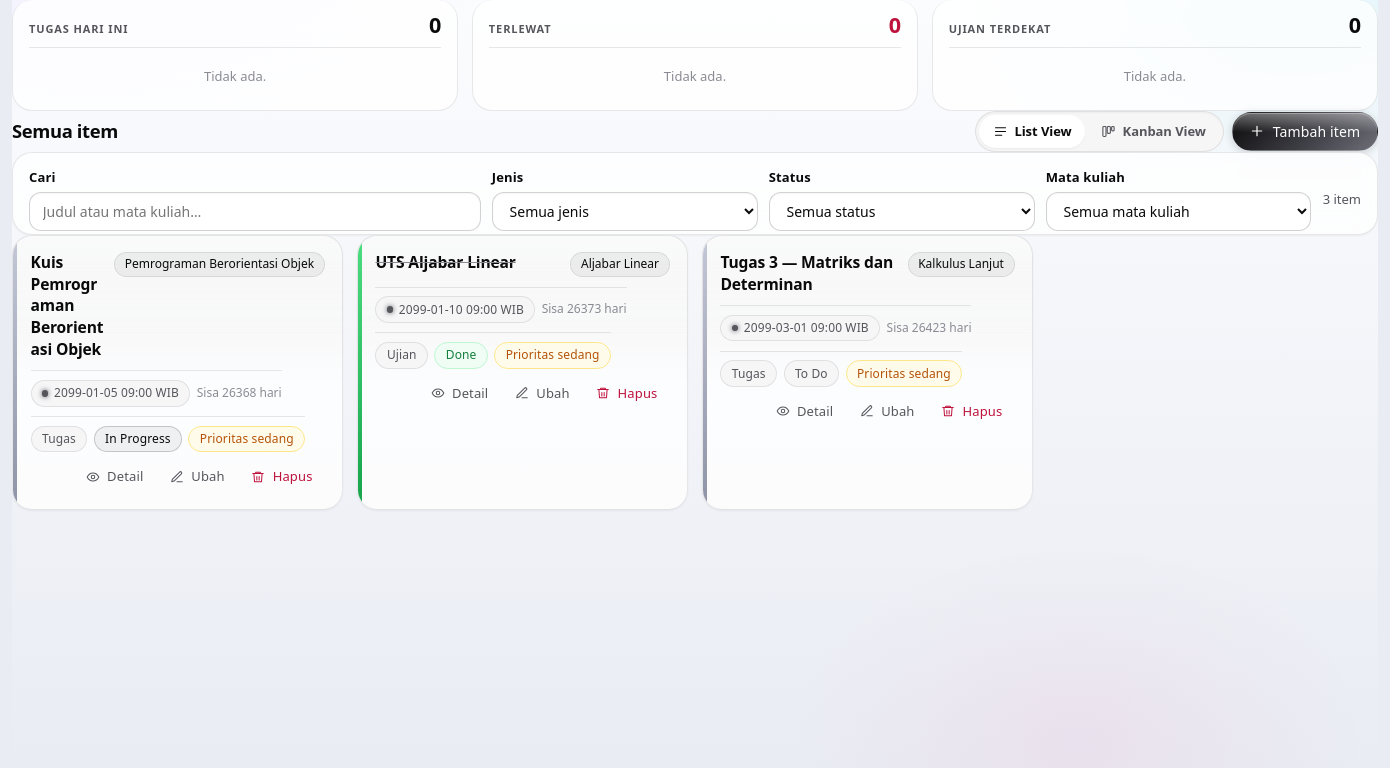
dual view modes › toasts a level-up when the reward crosses the next level
The image size is (1390, 768).
Click the button "Kanban View" at [1154, 131], box [1088,115,1220,148]
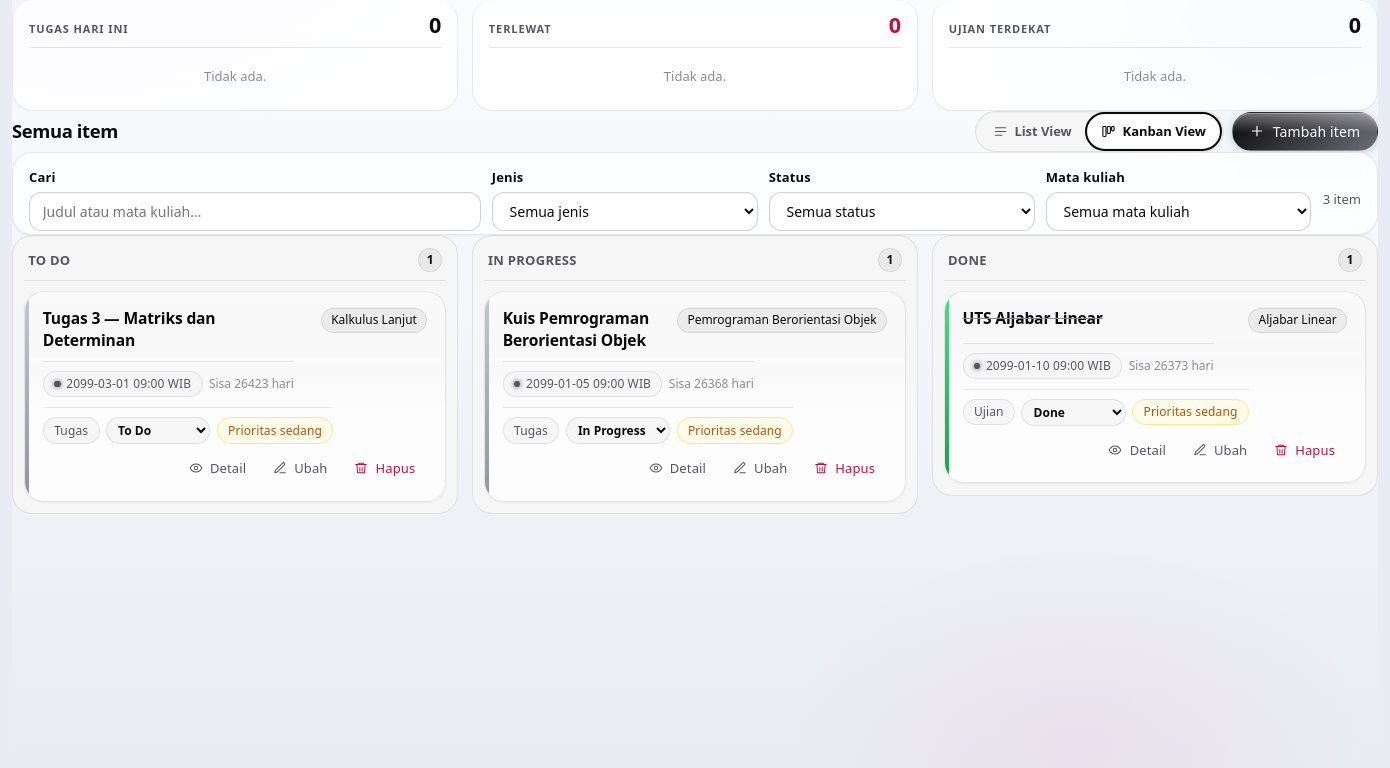
Select "Done" in the dropdown named "Status untuk Tugas 3 — Matriks dan Determinan" at [158, 431], box [106,417,210,444]
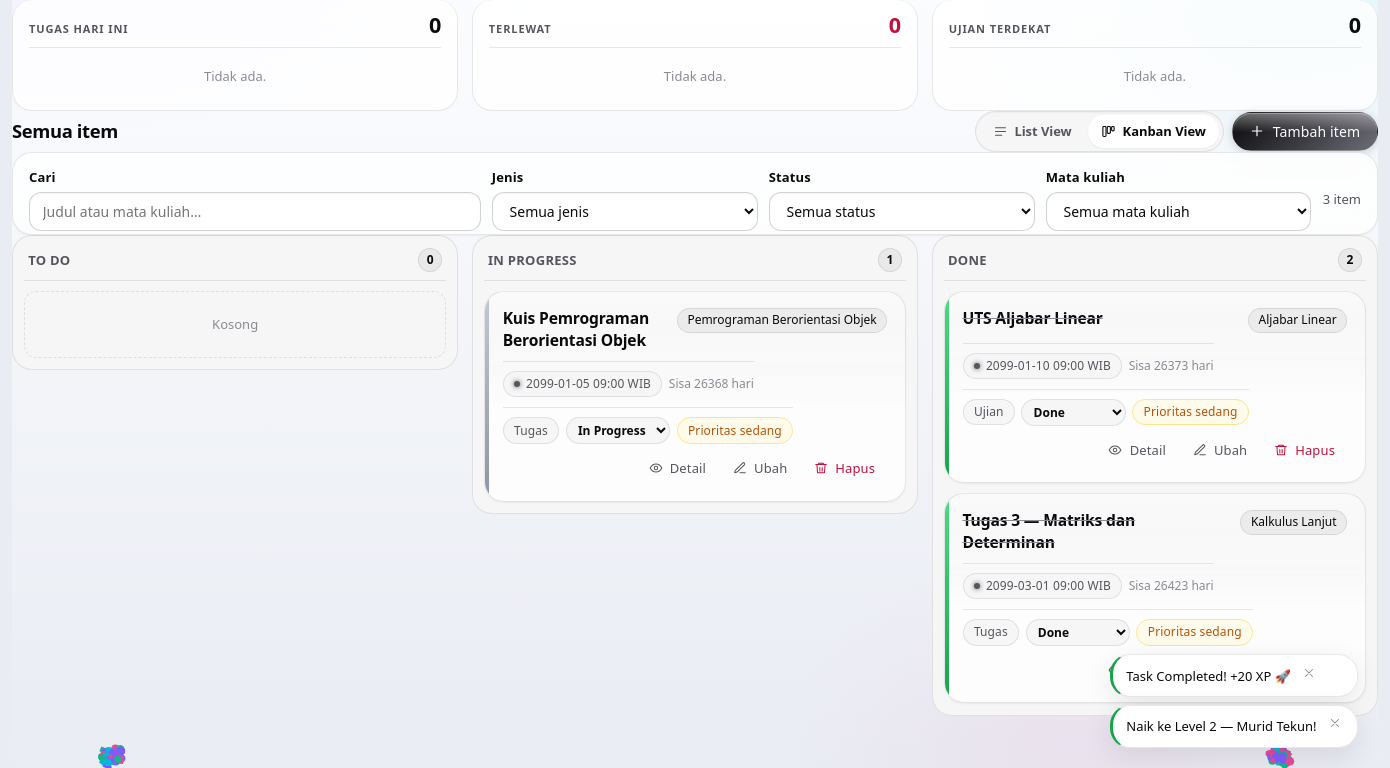
Expected: the text "Task Completed! +20 XP 🚀" is shown, [1126,666,1291,686]
Expected: the text "Naik ke Level 2 — Murid Tekun!" is shown, [1126,716,1317,737]
